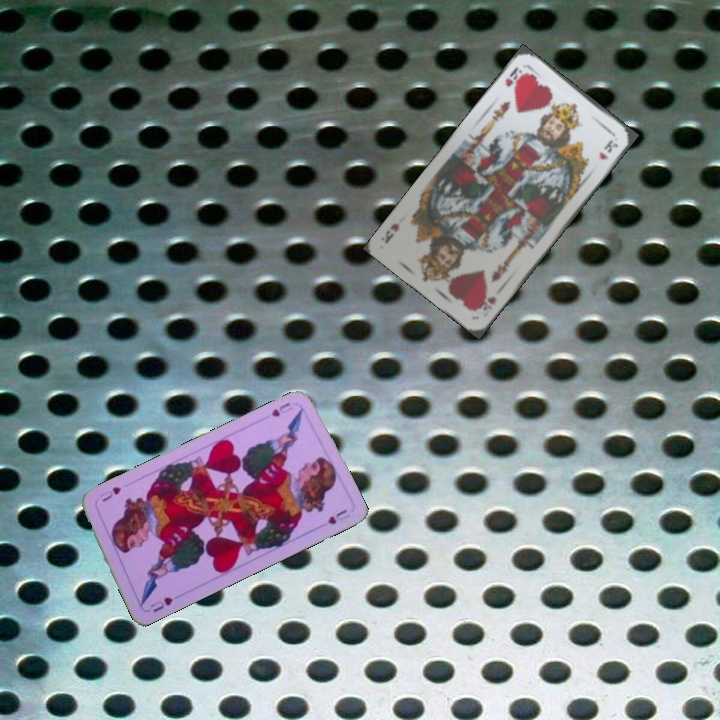HK: (501, 62, 529, 91), (471, 292, 499, 315)
HU: (146, 593, 176, 615), (267, 398, 293, 420)
